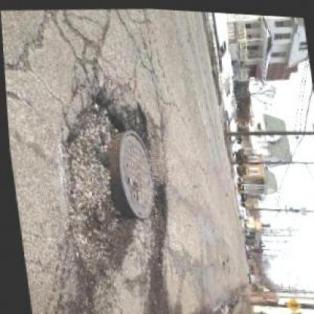Hueco: (46, 85, 165, 283), (140, 178, 173, 242)
